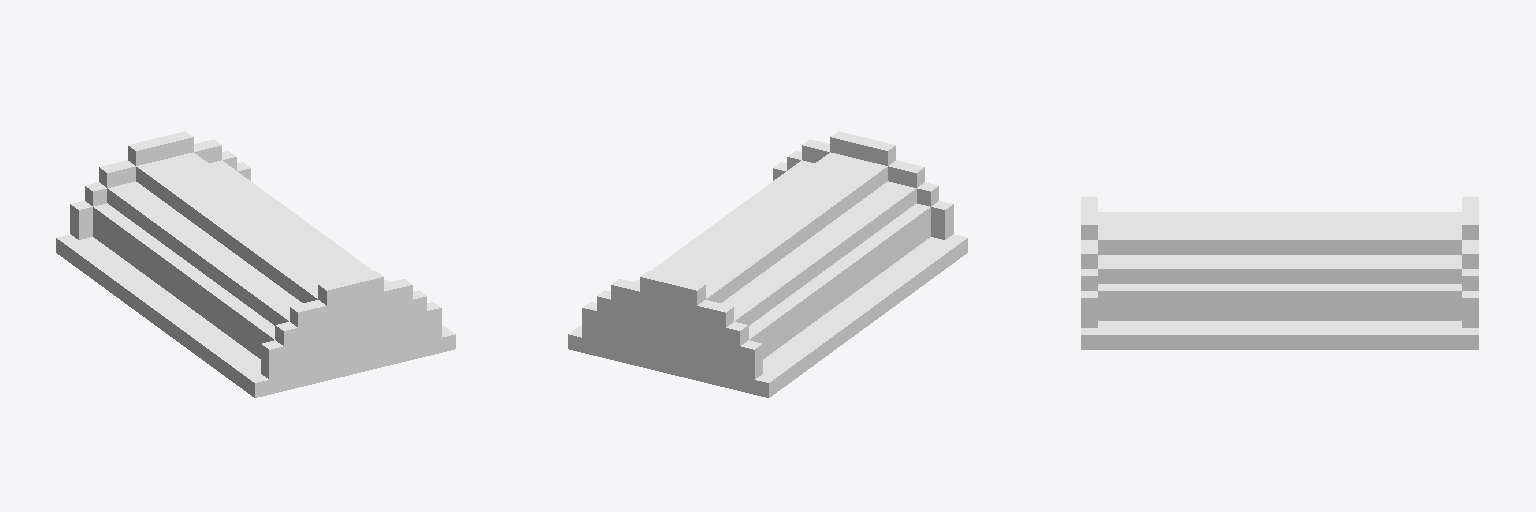
Rendered from Stenka1-11.obj.
3 renders of one model, left to right at view 1: azimuth 30°, elevation 25°; view 2: azimuth 150°, elevation 25°; view 3: azimuth 270°, elevation 25°, orthographic.
Visible parts, largest first — view 1: object 1; view 2: object 1; view 3: object 1.
Boxes of the visible parts, x1=… form: object 1: x1=56, y1=131, x2=455, y2=397; object 1: x1=568, y1=131, x2=967, y2=397; object 1: x1=1081, y1=197, x2=1478, y2=349.
Bounding box in the file's own units: 1.4 × 0.6 × 2.4.